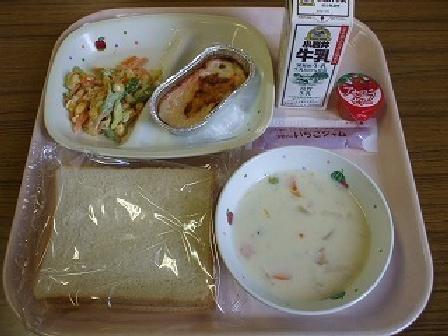Cup desserts: (336, 72, 387, 118)
Milk: (272, 1, 355, 111)
Salad: (56, 47, 155, 135)
Soups: (217, 149, 391, 309)
White bread: (30, 147, 232, 321)
casserole with meat and vegetables: (153, 30, 253, 137)
